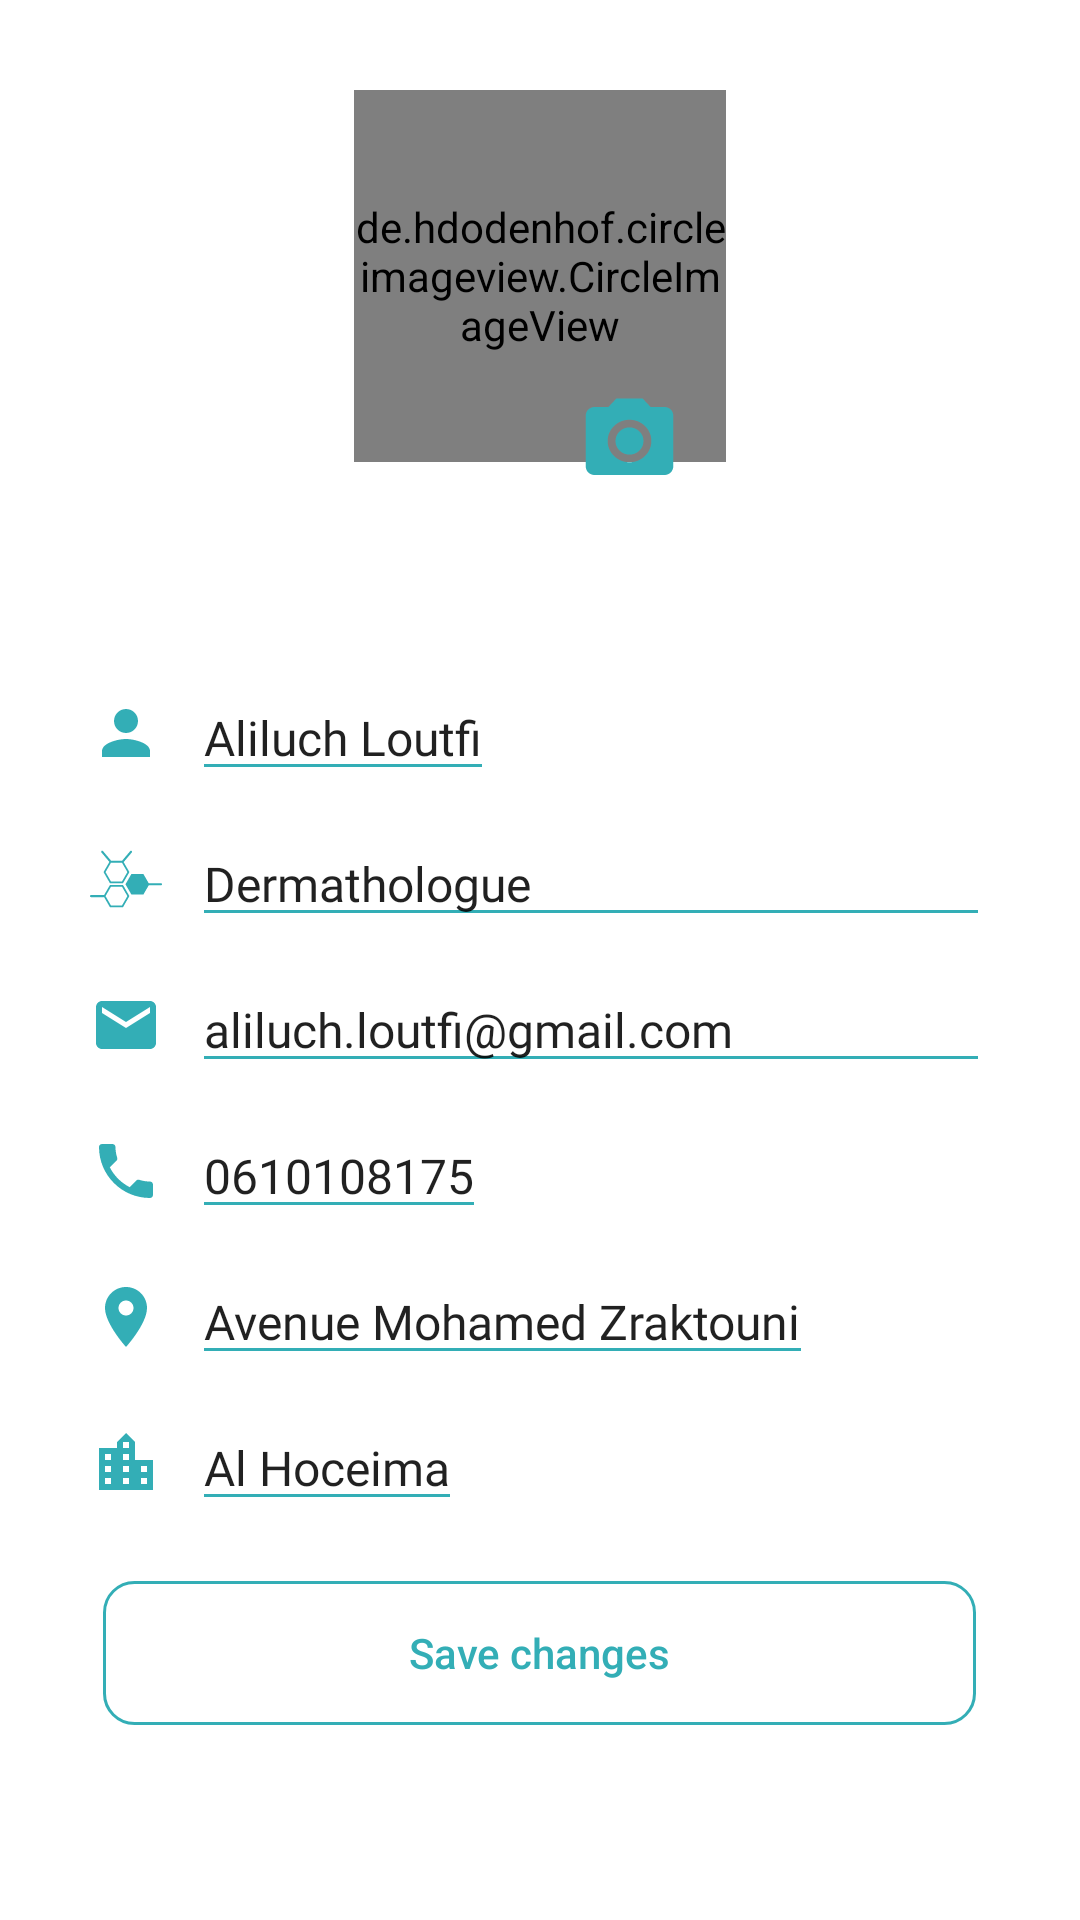

Icon click points for this 1080×1920 phone screenshot, format [x,y]:
email: [126,1025]
local phone: [126,1171]
location: [126,1317]
location city: [126,1461]
molecular bond: [126,879]
person: [126,733]
photo camera: [629,441]
